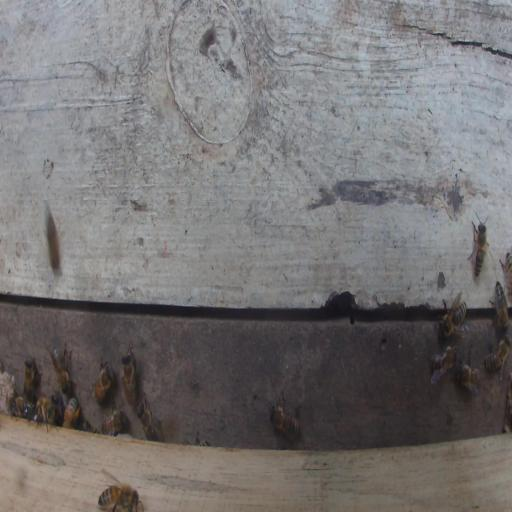bee: (44, 205, 63, 280), (437, 299, 467, 341), (137, 401, 166, 444), (269, 405, 301, 443), (429, 344, 458, 385), (97, 484, 140, 509), (485, 334, 510, 371), (51, 346, 70, 394), (493, 279, 509, 334), (121, 355, 136, 409), (94, 365, 114, 404), (473, 222, 487, 276), (458, 361, 481, 391), (100, 410, 127, 435), (9, 396, 35, 419), (23, 357, 35, 401), (63, 397, 80, 428), (35, 396, 54, 423), (51, 393, 62, 426), (504, 252, 512, 292)
